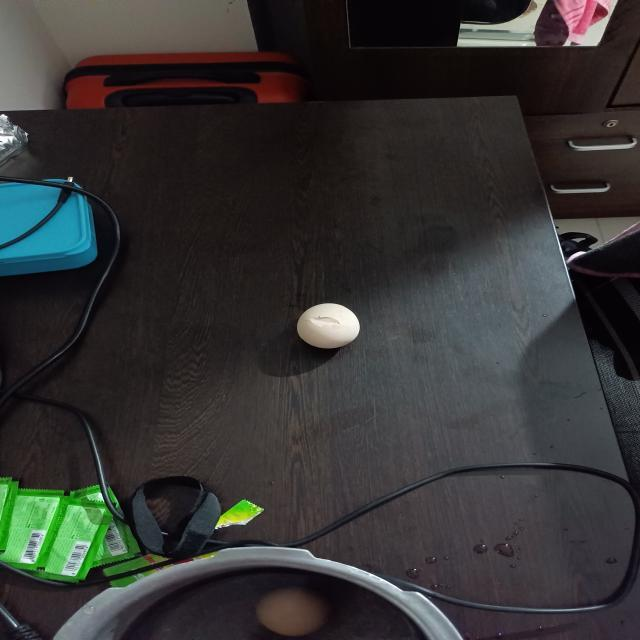biodegradable: (296, 302, 360, 350)
